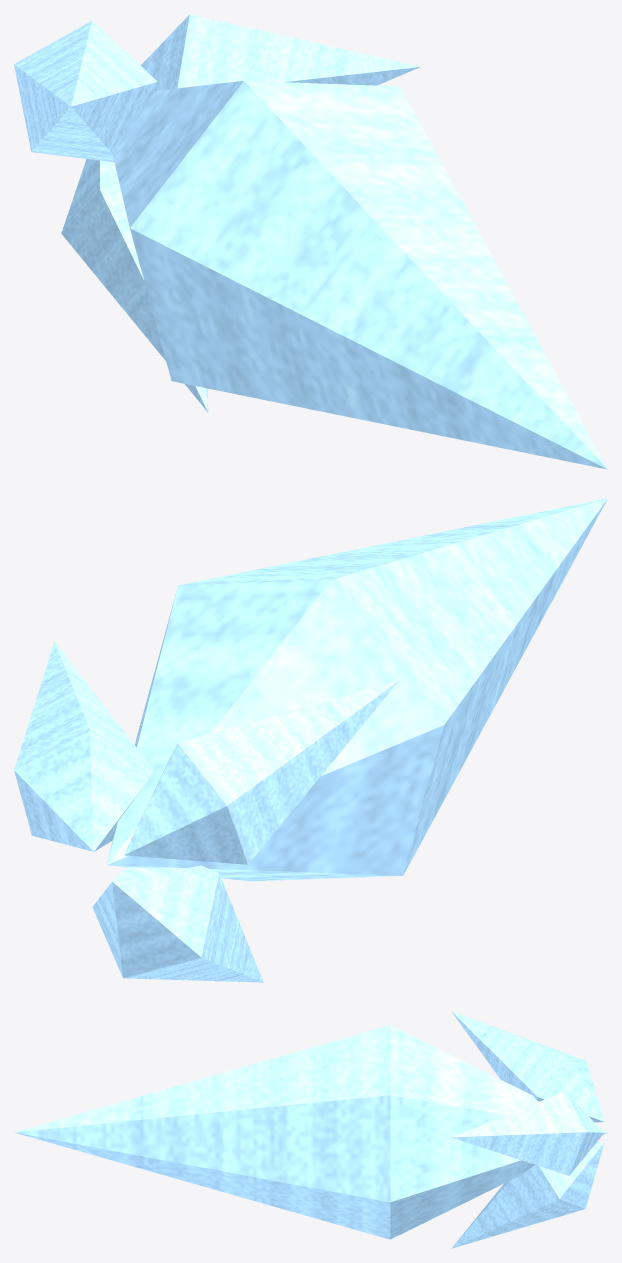
The model's file is projectile_ice_shard.glb.
3 views of the same model, one above another, from view 1: azimuth 30°, elevation 25°; view 2: azimuth 150°, elevation 25°; view 3: azimuth 270°, elevation 25° (orthographic). The views are drawn at different scales.
Parts seen in each view (by area): view 1: IceShard; view 2: IceShard; view 3: IceShard.
Part boxes in pixels (<box>): IceShard: <box>14,14,607,469</box>; IceShard: <box>14,498,607,982</box>; IceShard: <box>14,1011,607,1248</box>.
Size of the model in its own units: 0.2383 by 0.2438 by 0.6.
Materials: 1 (1 with a texture image).
